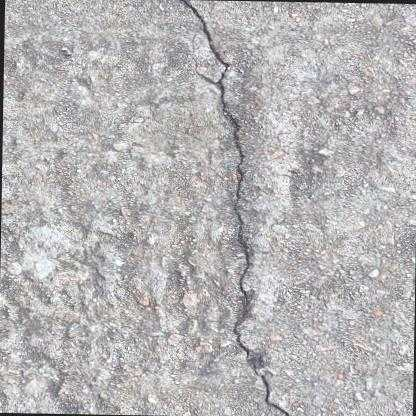crack: (174, 0, 292, 416)
